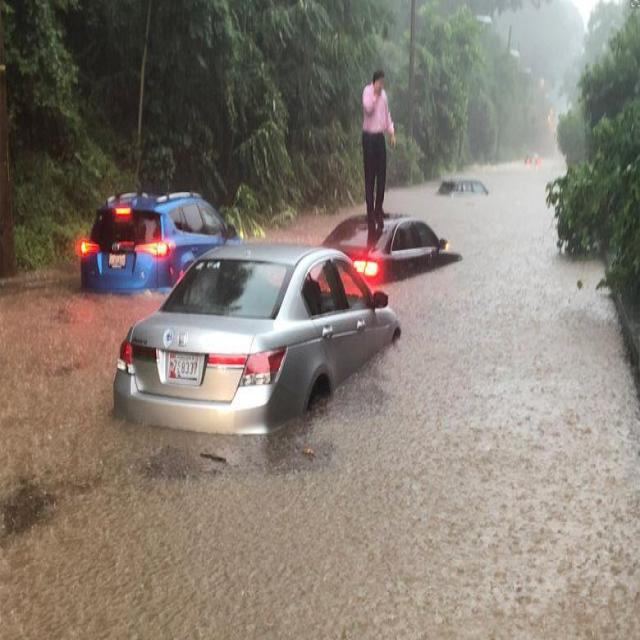water: (0, 159, 639, 638)
